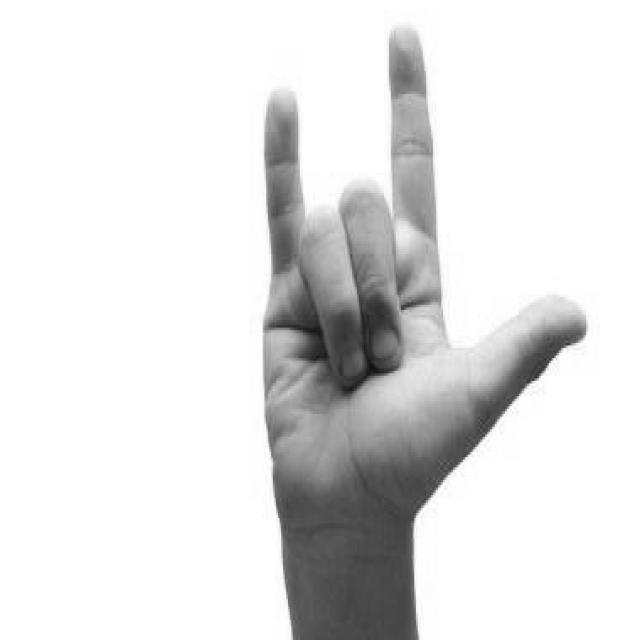i love you: (255, 15, 592, 578)
